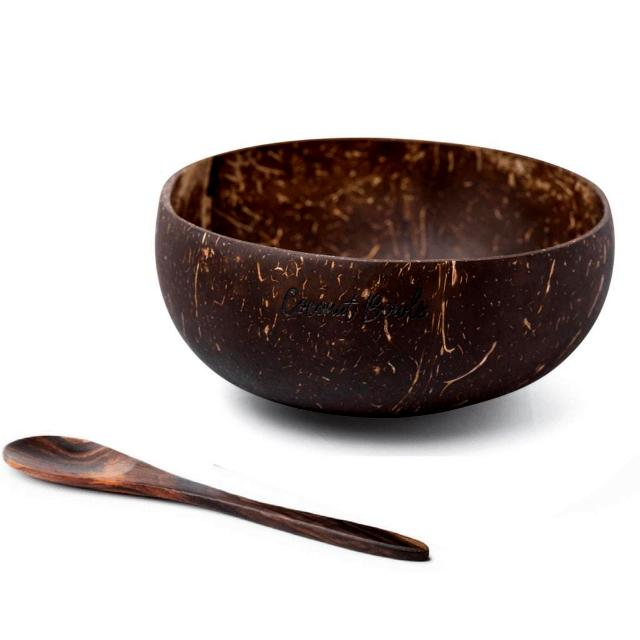Bowl: (157, 139, 613, 416)
Spoon: (4, 437, 428, 560)
